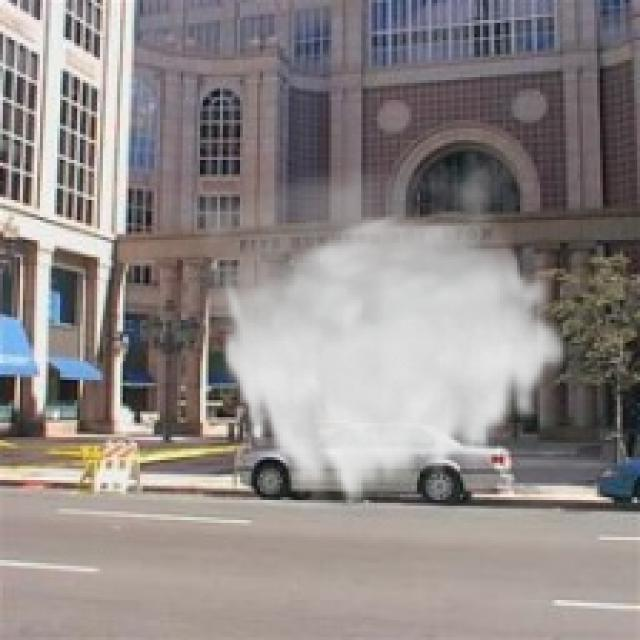smoke: (146, 143, 571, 514)
